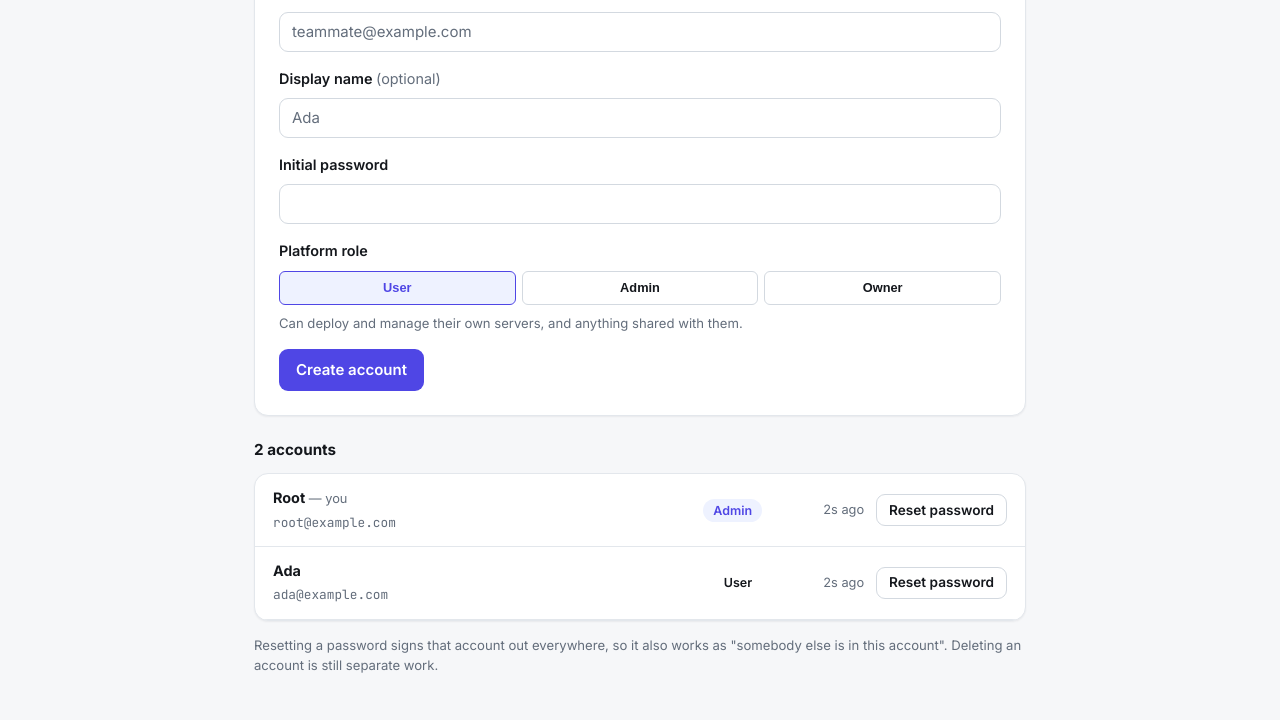
Scenario: Users › refuses a password the API would refuse, while the field is still on screen
(page scrolled)
Expected: the text "ada@example.com" is shown, [273,586,388,603]
Click the button with aria-label "Reset the password for ada@example.com" at (942, 583), box [876,567,1007,599]
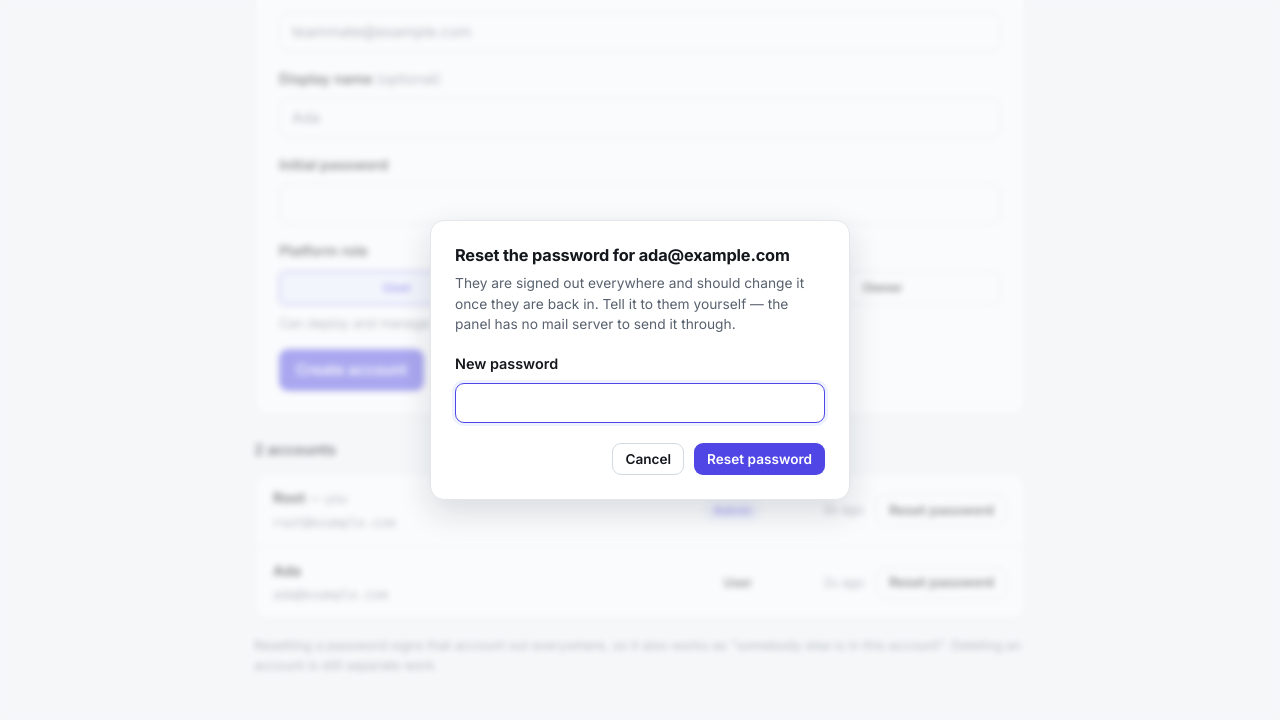
Type "short" into the field labelled "New password" at (640, 403), box [455,383,825,423]
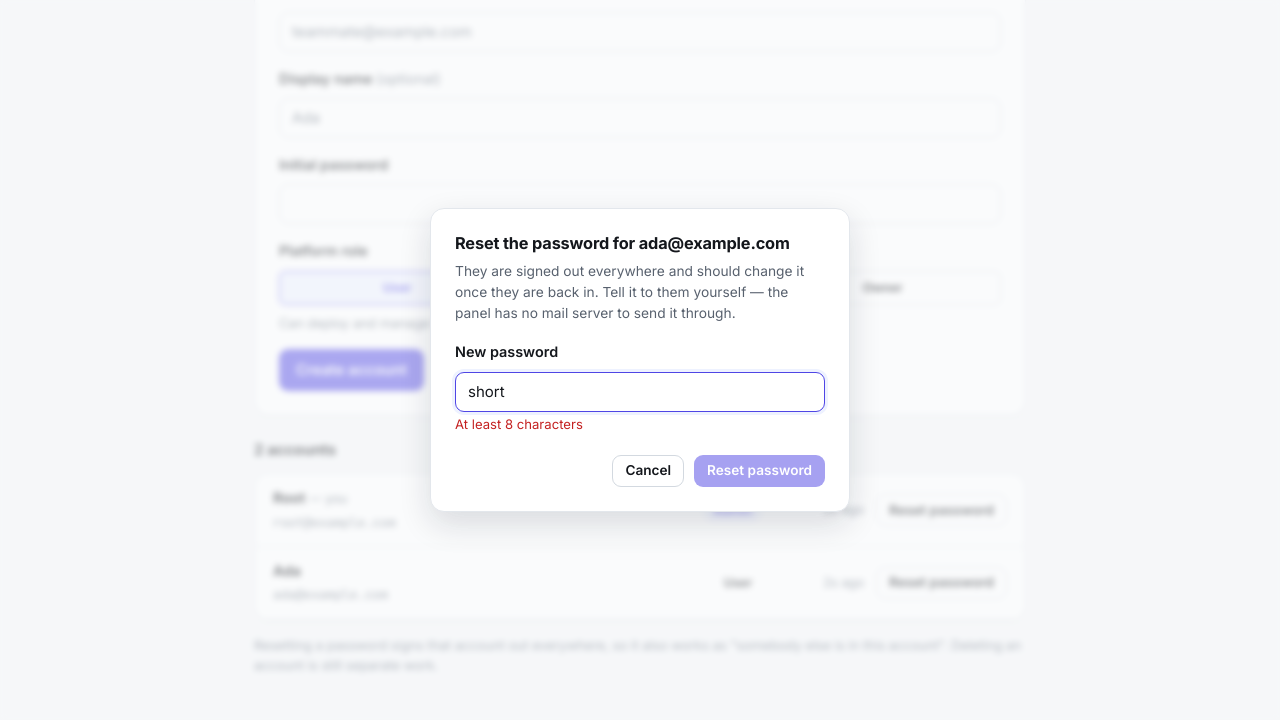
Expected: the message reads "At least 8 characters", [455,416,583,432]
